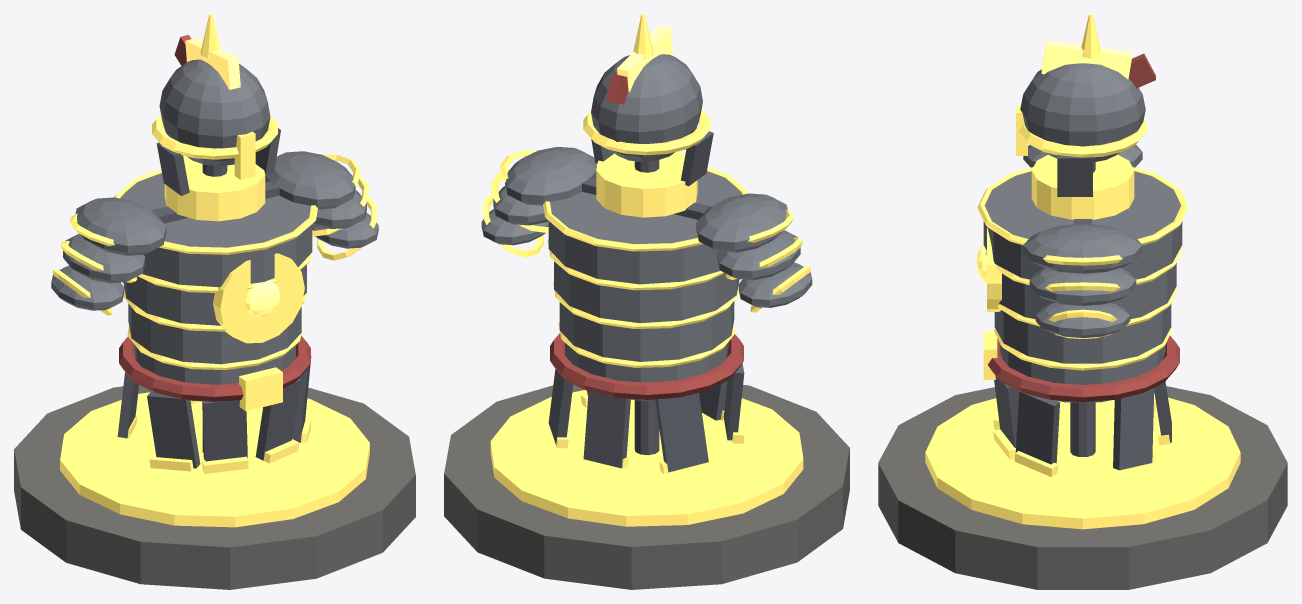
Rendered from giap_sat_soc_son.glb.
The picture shows the model from 3 angles, left to right: view 1: azimuth 30°, elevation 25°; view 2: azimuth 150°, elevation 25°; view 3: azimuth 270°, elevation 25°; orthographic projection.
Visible parts, largest first — view 1: Giap_Sat_Soc_Son; view 2: Giap_Sat_Soc_Son; view 3: Giap_Sat_Soc_Son.
Boxes of the visible parts, <box> form: Giap_Sat_Soc_Son: <box>14,14,415,589</box>; Giap_Sat_Soc_Son: <box>444,14,849,589</box>; Giap_Sat_Soc_Son: <box>878,14,1287,589</box>.
Size of the model in its own units: 1.01 by 1.38 by 1.04.
